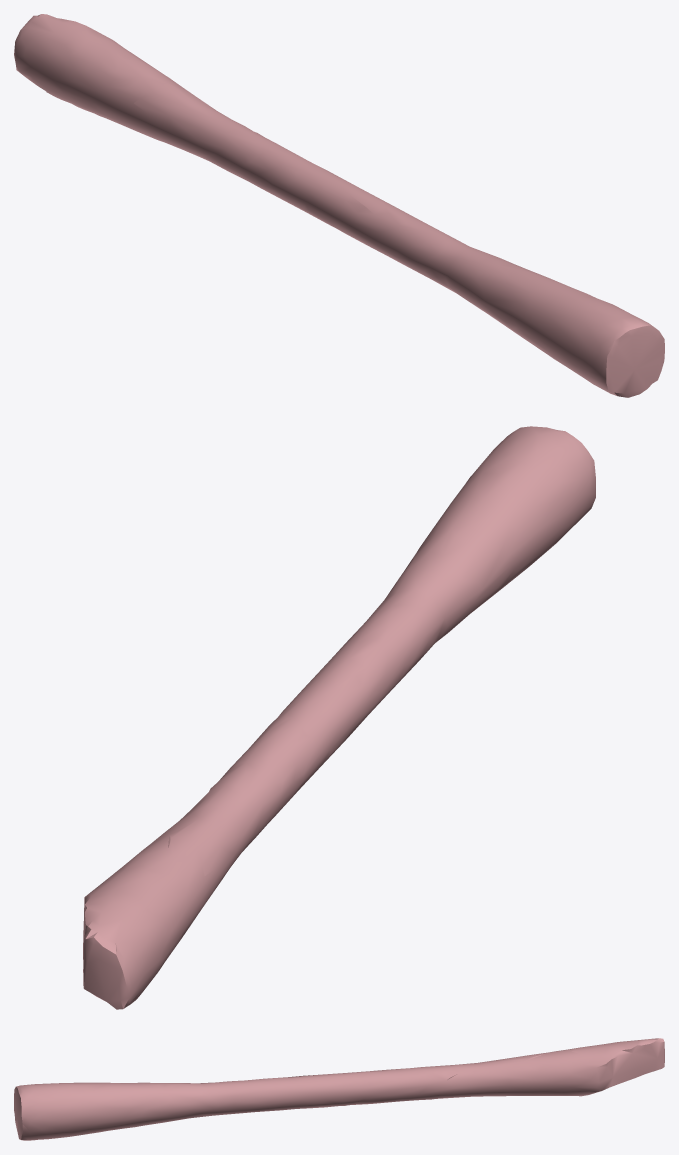
The model's file is fma55245_mm1176m.glb.
The picture shows the model from 3 angles, top to bottom: view 1: azimuth 30°, elevation 25°; view 2: azimuth 150°, elevation 25°; view 3: azimuth 270°, elevation 25°; orthographic projection. The views are drawn at different scales.
Visible parts, largest first — view 1: FMA55245_MM1176M; view 2: FMA55245_MM1176M; view 3: FMA55245_MM1176M.
Part boxes in pixels (x1,y1,x2,y2): FMA55245_MM1176M: (14,14,664,397); FMA55245_MM1176M: (83,426,595,1009); FMA55245_MM1176M: (14,1038,664,1140).
Size of the model in its own units: 0.00406 by 0.00158 by 0.017.
